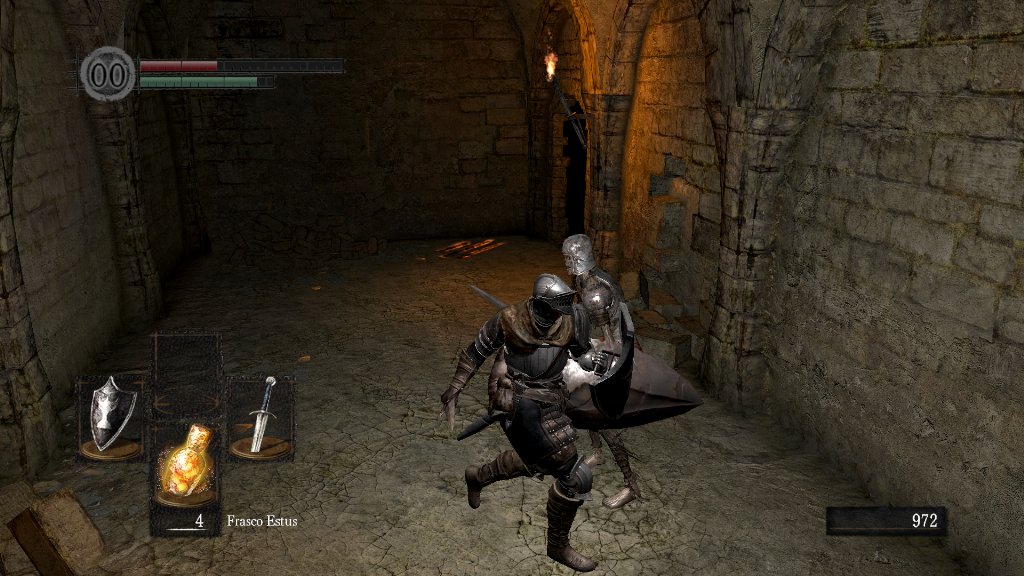health: (138, 58, 343, 71)
humanity: (80, 45, 136, 102)
player: (437, 274, 639, 573)
souls: (825, 506, 945, 536)
stamina: (138, 74, 274, 88)
undeadSoldier: (563, 234, 643, 510)
